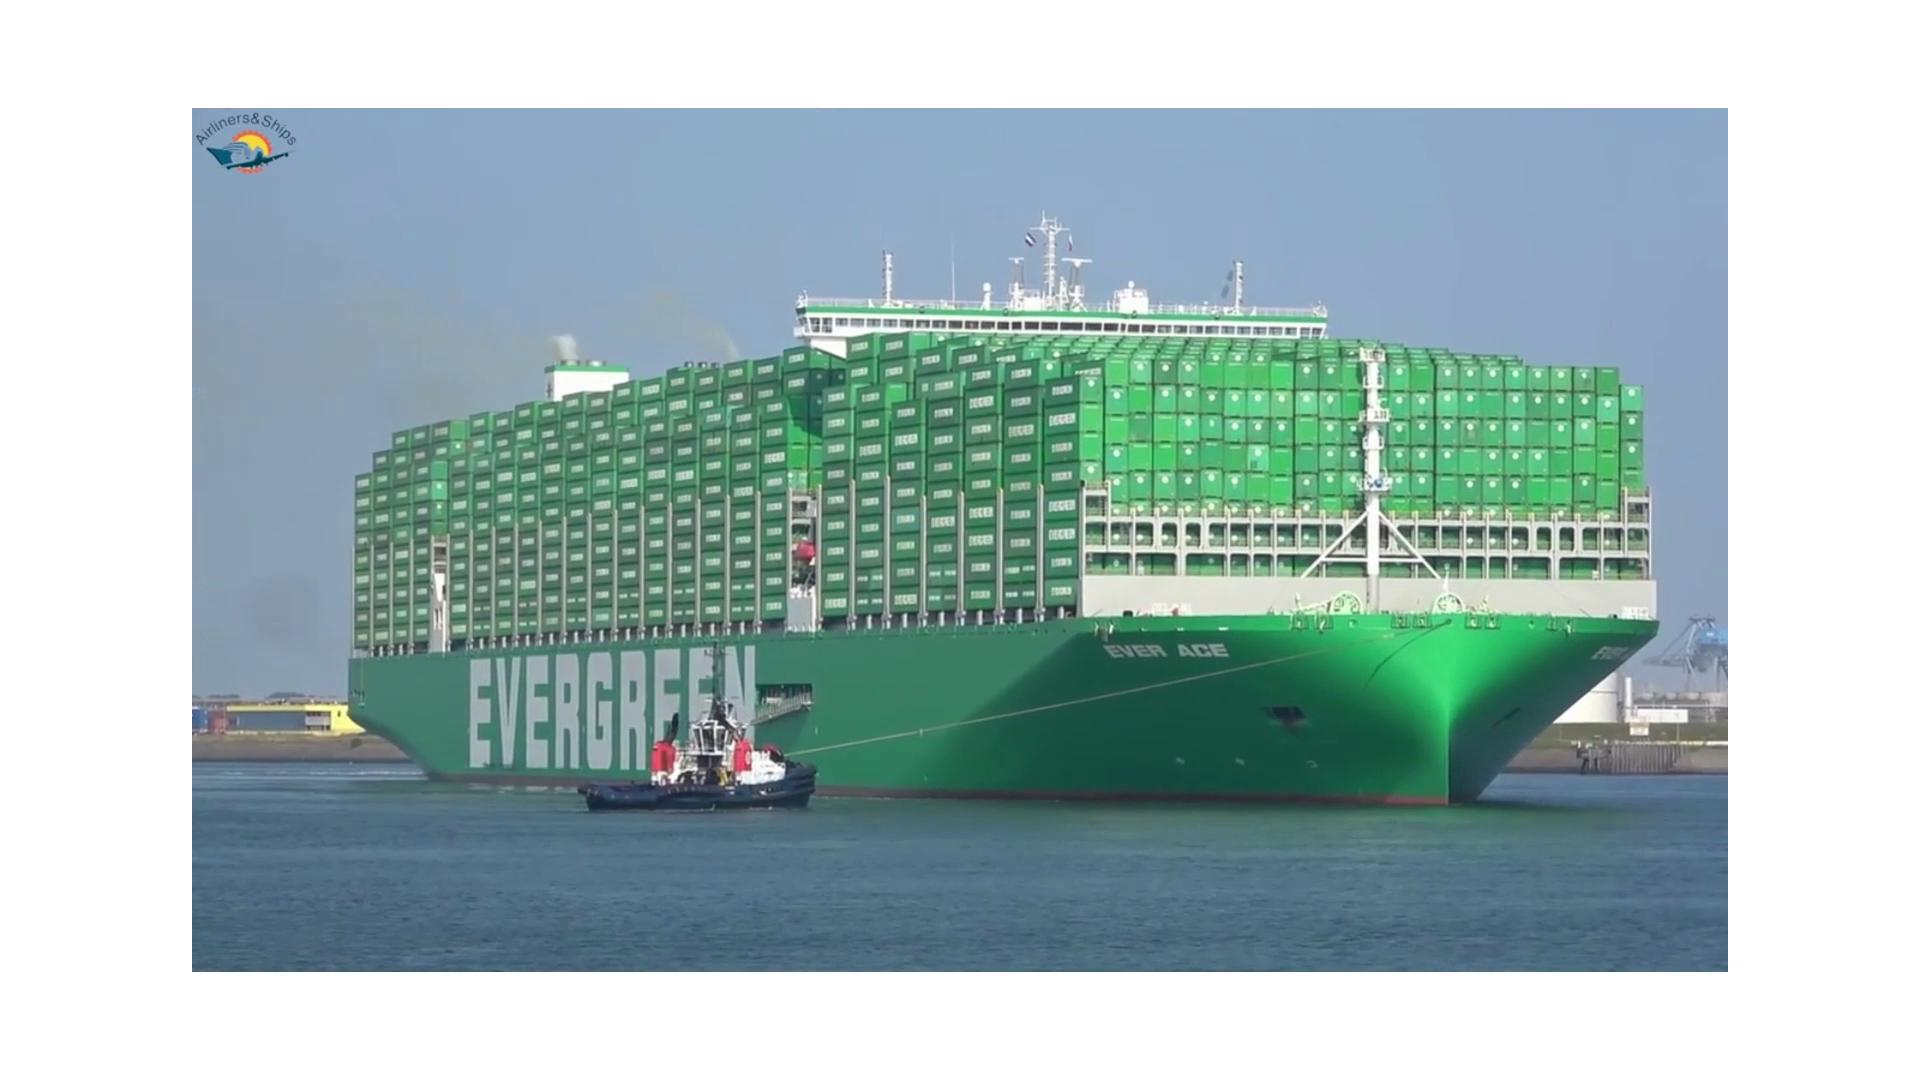OCR: (436, 637, 786, 796), (1083, 616, 1247, 676)
